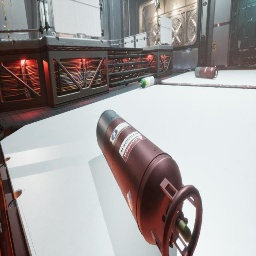0: (139, 76, 154, 88)
EmergencyPhone ,: (211, 40, 216, 51), (214, 44, 216, 45)
NitrogenTank ,: (96, 109, 203, 256), (194, 67, 218, 79)
SafetySwitchPanel ,: (40, 2, 50, 32)
